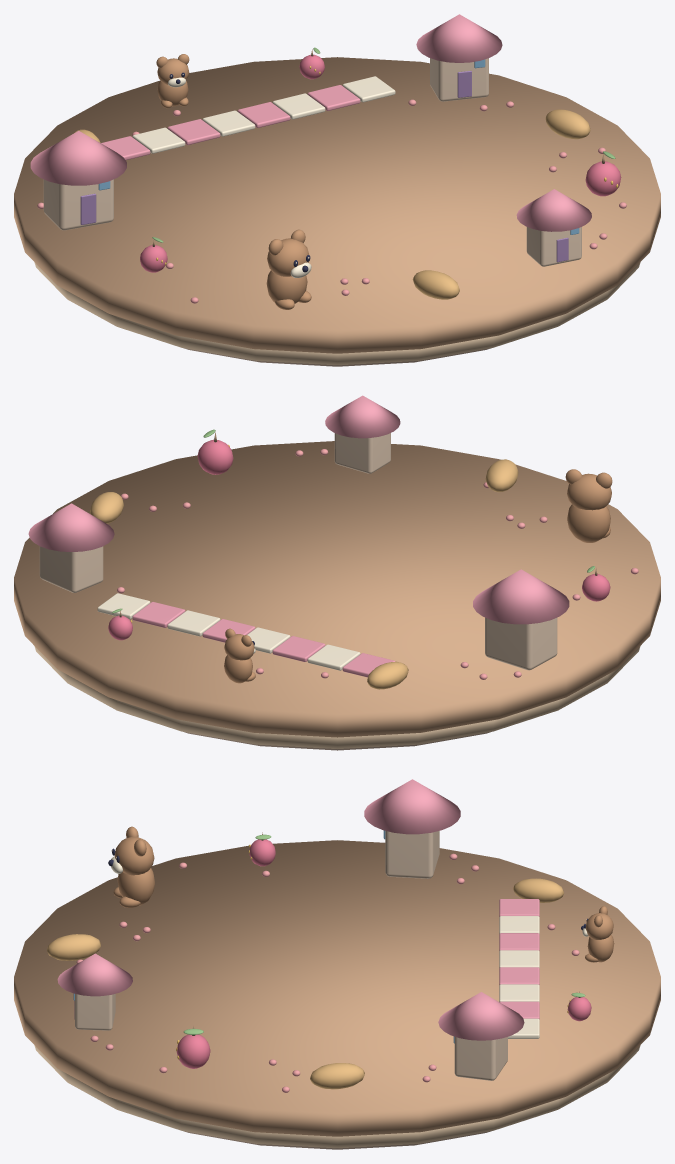
Rendered from world.glb.
3 views of the same model, one above another, from view 1: azimuth 30°, elevation 25°; view 2: azimuth 150°, elevation 25°; view 3: azimuth 270°, elevation 25° (orthographic).
Parts seen in each view (by area): view 1: Cone, house.002, Cone.001, house.001, house.003, bear.002, bear.001, strawberry.003, bread.003, bread.001, Cube.002, Cube.003 (+9 smaller); view 2: Cone, house.002, Cone.001, house.001, house.003, bear.002, bear.001, strawberry.003, bread.002, Cube.006, Cube.001, bread.003 (+10 smaller); view 3: Cone, Cone.001, house.002, house.001, house.003, bear.002, bear.001, bread.001, bread.003, strawberry.003, bread.002, Cube.005 (+8 smaller).
Boxes of the visible parts, bbox=[...] form: Cone: bbox=[14, 57, 660, 353]; house.002: bbox=[30, 130, 126, 230]; Cone.001: bbox=[34, 262, 640, 365]; house.001: bbox=[416, 14, 502, 101]; house.003: bbox=[516, 189, 591, 266]; bear.002: bbox=[266, 229, 311, 309]; bear.001: bbox=[156, 54, 189, 108]; strawberry.003: bbox=[585, 151, 621, 196]; bread.003: bbox=[412, 270, 459, 299]; bread.001: bbox=[545, 109, 590, 139]; Cube.002: bbox=[167, 119, 220, 145]; Cube.003: bbox=[202, 110, 255, 136]; Cone: bbox=[14, 441, 660, 737]; house.002: bbox=[473, 569, 569, 670]; Cone.001: bbox=[34, 646, 640, 748]; house.001: bbox=[28, 503, 114, 592]; house.003: bbox=[325, 395, 400, 473]; bear.002: bbox=[565, 469, 612, 542]; bear.001: bbox=[224, 628, 255, 683]; strawberry.003: bbox=[197, 429, 233, 474]; bread.002: bbox=[367, 661, 408, 689]; Cube.006: bbox=[132, 601, 185, 627]; Cube.001: bbox=[307, 644, 360, 670]; bread.003: bbox=[485, 459, 518, 492]; Cone: bbox=[14, 840, 660, 1136]; Cone.001: bbox=[34, 1045, 640, 1148]; house.002: bbox=[364, 779, 460, 878]; house.001: bbox=[438, 992, 524, 1080]; house.003: bbox=[57, 953, 132, 1030]; bear.002: bbox=[108, 826, 154, 907]; bear.001: bbox=[581, 906, 614, 962]; bread.001: bbox=[310, 1063, 364, 1089]; bread.003: bbox=[47, 934, 100, 960]; strawberry.003: bbox=[176, 1026, 210, 1068]; bread.002: bbox=[513, 878, 564, 902]; Cube.005: bbox=[499, 984, 539, 1002].
Bounding box in the file's own units: 9.6 × 2.24 × 9.6.
